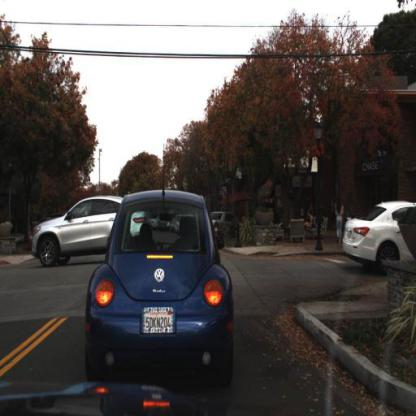car: (83, 178, 237, 390), (29, 192, 145, 271), (343, 201, 416, 275), (208, 208, 238, 238)
pedestrian: (334, 193, 343, 247), (345, 196, 355, 228), (305, 205, 315, 235)
